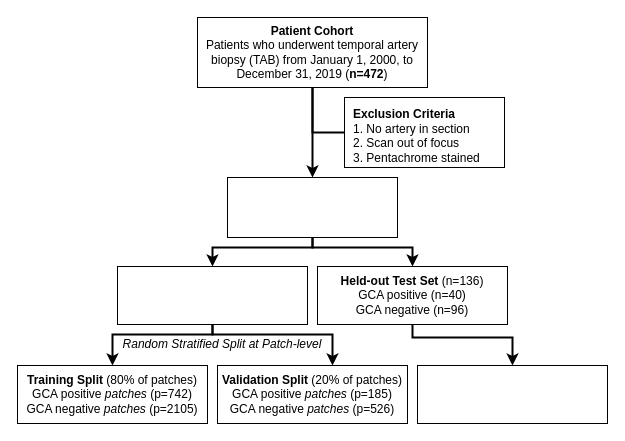
Image size: 625x441. Some labels were removed from this diagram. Each missing label, with the centre of its shape:
Held-out Test Split GCA positive patches (p=251) GCA negative patches (p=995): the point at 512,394
Study Population ( n=472 ) GCA positive (n=140) GCA negative (n=332): the point at 312,207
Training & Validation Set (n=450) GCA positive (n=80) GCA negative (n=332): the point at 212,295
